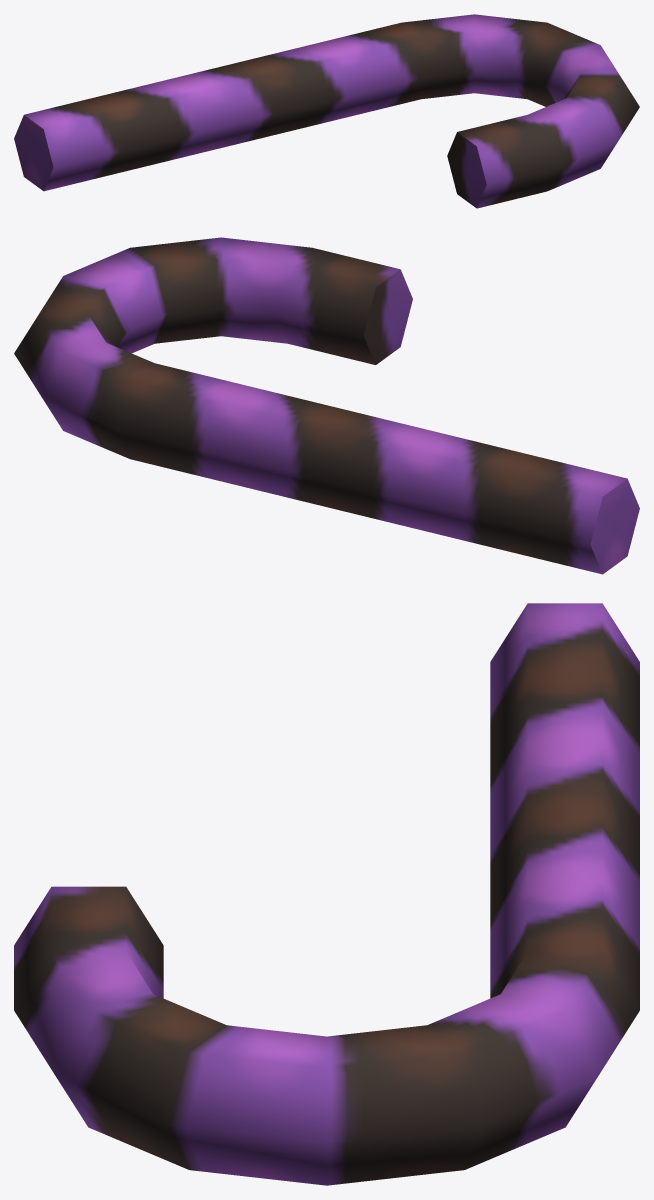
Rendered from candy07.fbx.
3 views of the same model, one above another, from view 1: azimuth 30°, elevation 25°; view 2: azimuth 150°, elevation 25°; view 3: azimuth 270°, elevation 25° (orthographic). The views are drawn at different scales.
Visible parts, largest first — view 1: candy07; view 2: candy07; view 3: candy07.
Boxes of the visible parts, x1,y1,x2,y2 form: candy07: (14, 14, 639, 208); candy07: (14, 237, 639, 574); candy07: (14, 603, 639, 1185).
Bounding box in the file's own units: 37.71 × 4.3 × 20.76.
